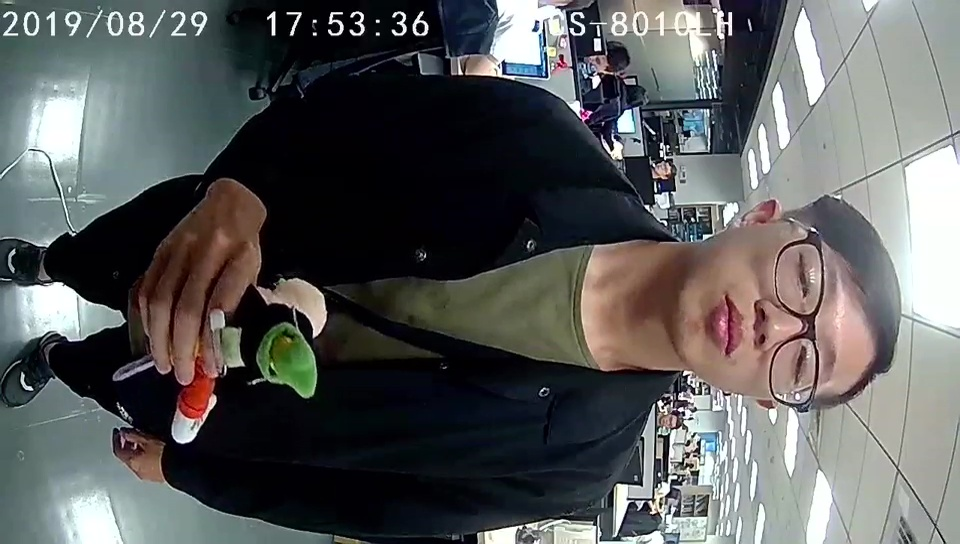goofy: (170, 275, 328, 444)
